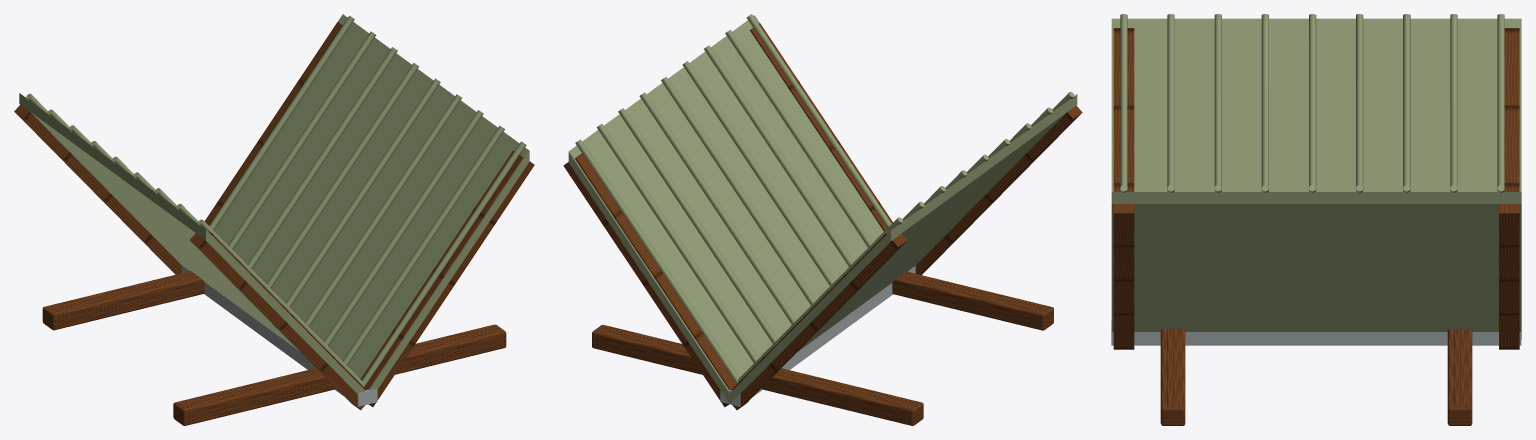
Rendered from prehistoric-survivor-settlement-hide-rain-fly-dfed99bd__23172.glb.
3 renders of one model, left to right at view 1: azimuth 30°, elevation 25°; view 2: azimuth 150°, elevation 25°; view 3: azimuth 270°, elevation 25°, orthographic. The views are drawn at different scales.
Parts seen in each view (by area): view 1: hide-rain-fly; view 2: hide-rain-fly; view 3: hide-rain-fly.
Part boxes in pixels (x1=…): hide-rain-fly: x1=14, y1=14, x2=534, y2=425; hide-rain-fly: x1=563, y1=14, x2=1082, y2=425; hide-rain-fly: x1=1111, y1=14, x2=1521, y2=425.
Bounding box in the file's own units: 2.08 × 1.33 × 2.
3 materials, 1 textured.
